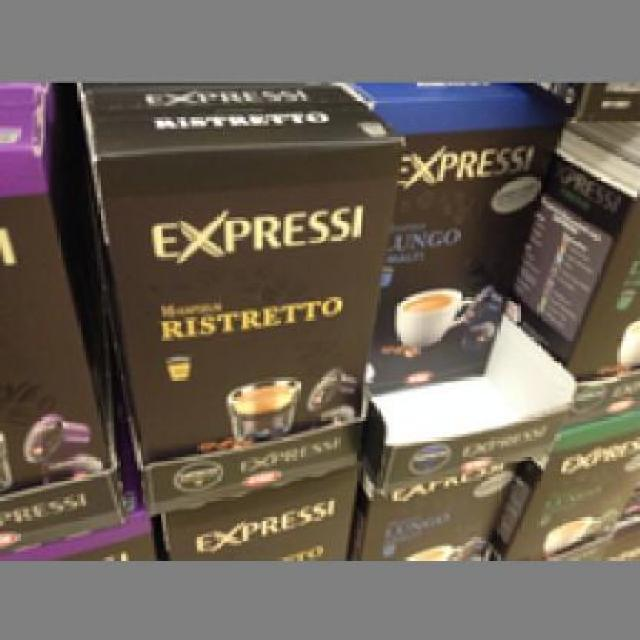Coffee: (77, 89, 403, 460), (363, 82, 554, 392)
